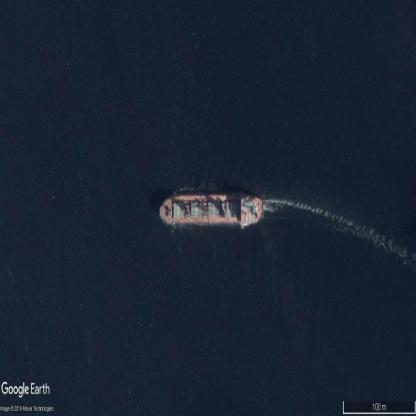ship: (160, 192, 263, 229)
